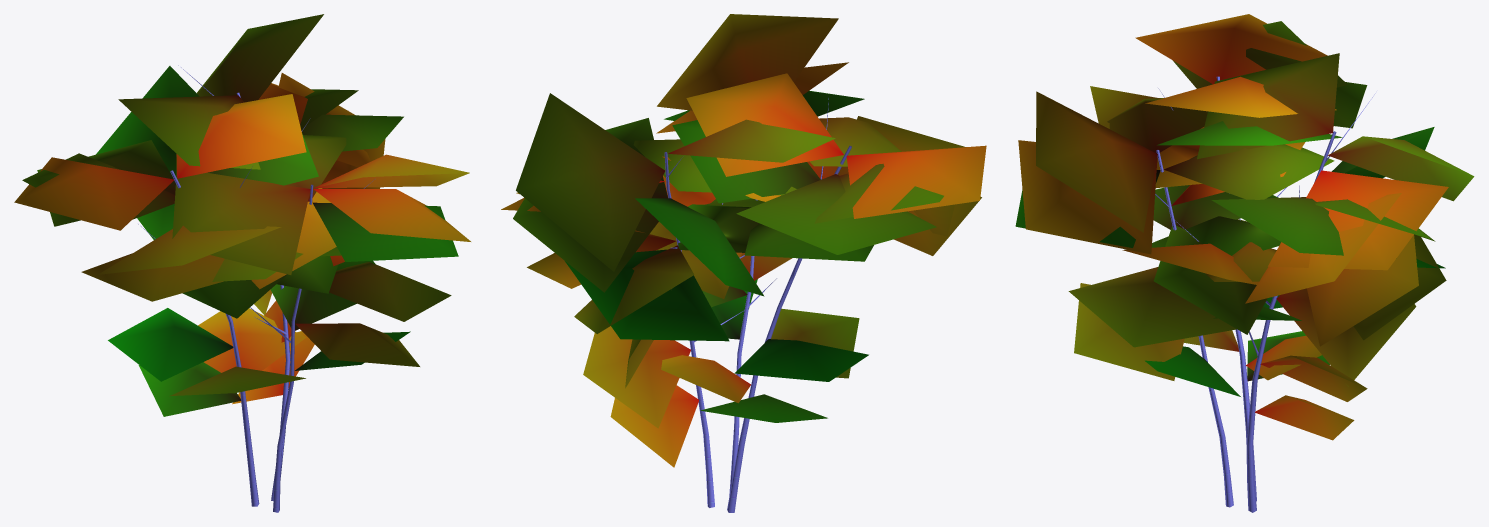
Rendered from tree_Shrub_Birch_LOD0.fbx.
3 renders of one model, left to right at view 1: azimuth 30°, elevation 25°; view 2: azimuth 150°, elevation 25°; view 3: azimuth 270°, elevation 25°, orthographic.
Parts seen in each view (by area): view 1: Shrub_Birch_LOD0; view 2: Shrub_Birch_LOD0; view 3: Shrub_Birch_LOD0.
Boxes of the visible parts, x1,y1,x2,y2 form: Shrub_Birch_LOD0: (14, 14, 470, 512); Shrub_Birch_LOD0: (501, 14, 986, 512); Shrub_Birch_LOD0: (1015, 14, 1474, 512).
Bounding box in the file's own units: 634 × 615 × 600.
